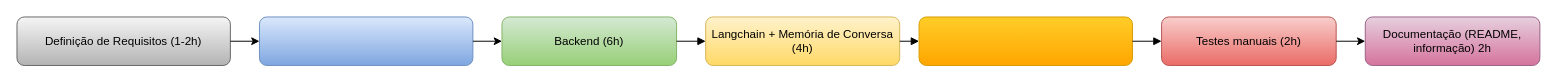
The diagram is 1557 pixels wide and 82 high, and some of its shapes have lost their labels. Each missing label, with the centre of its shape:
"Desenho do diagrama (1h)" belongs at point (366, 40).
"Frontend (4h)" belongs at point (1025, 40).
